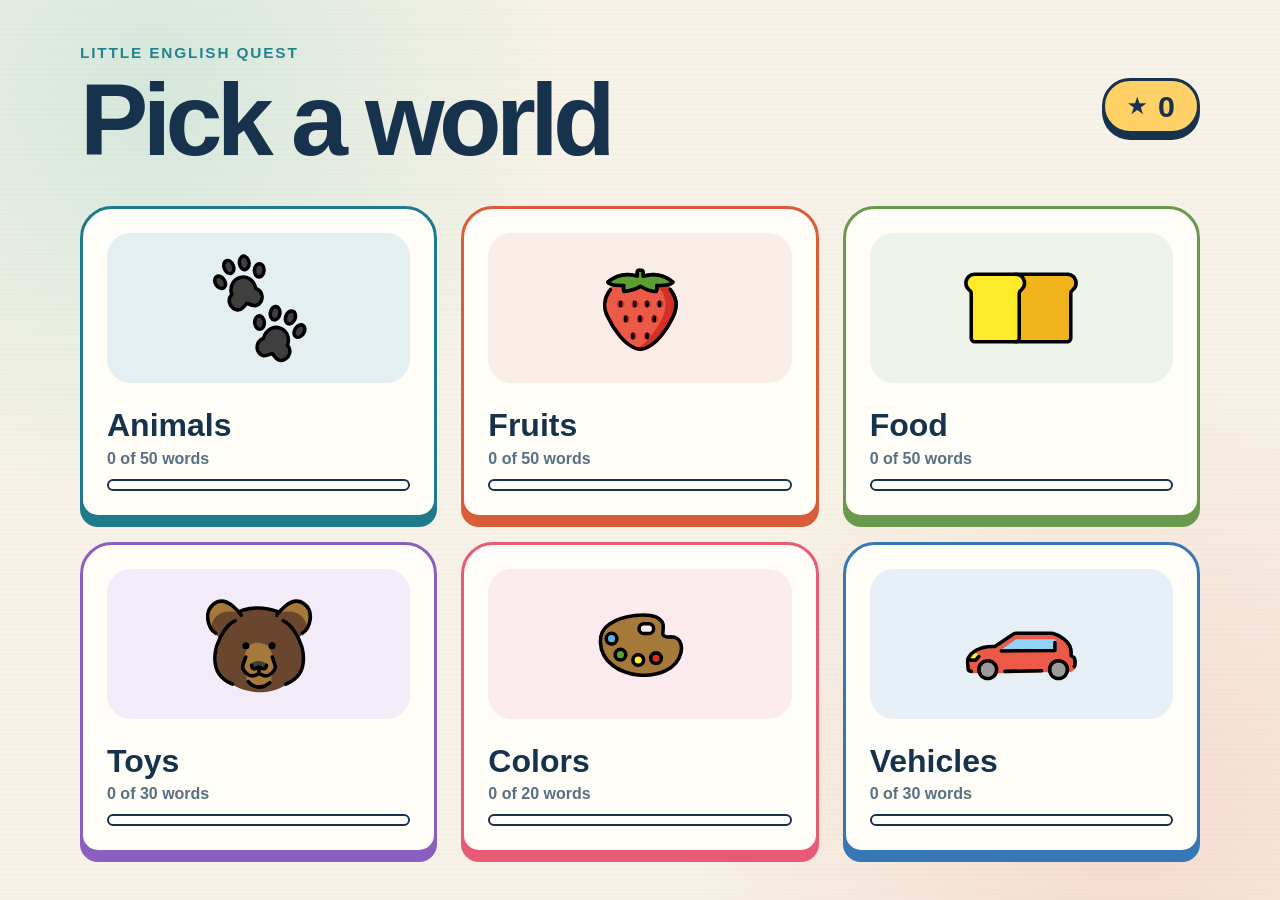
Test case: App flow › explains when sound playback is unavailable
Click the button "Animals 0 of 50 words".
click(259, 362)  # box x1=80 y1=206 x2=437 y2=518
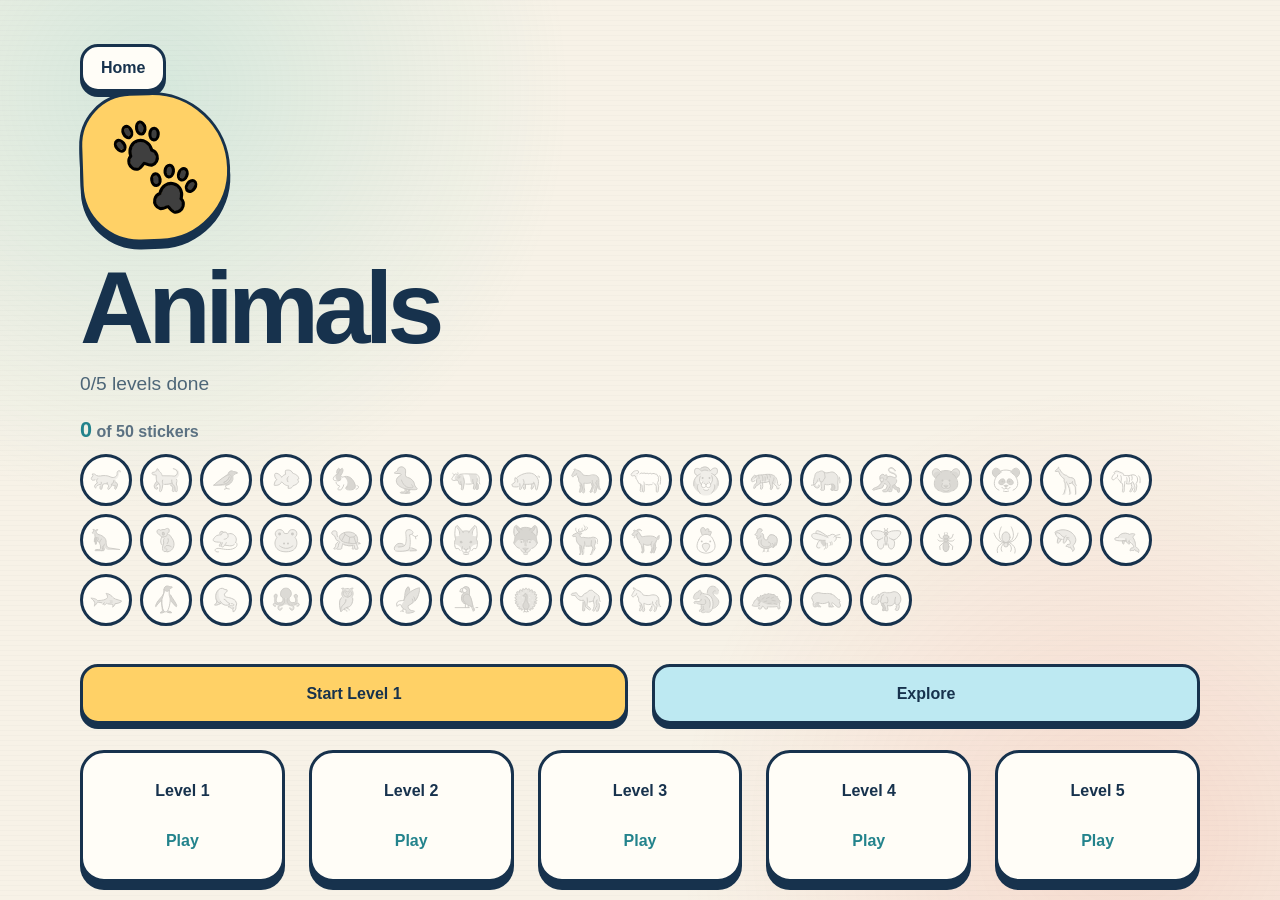
Click the button "Start Level 1".
click(354, 694)  # box x1=80 y1=664 x2=628 y2=724
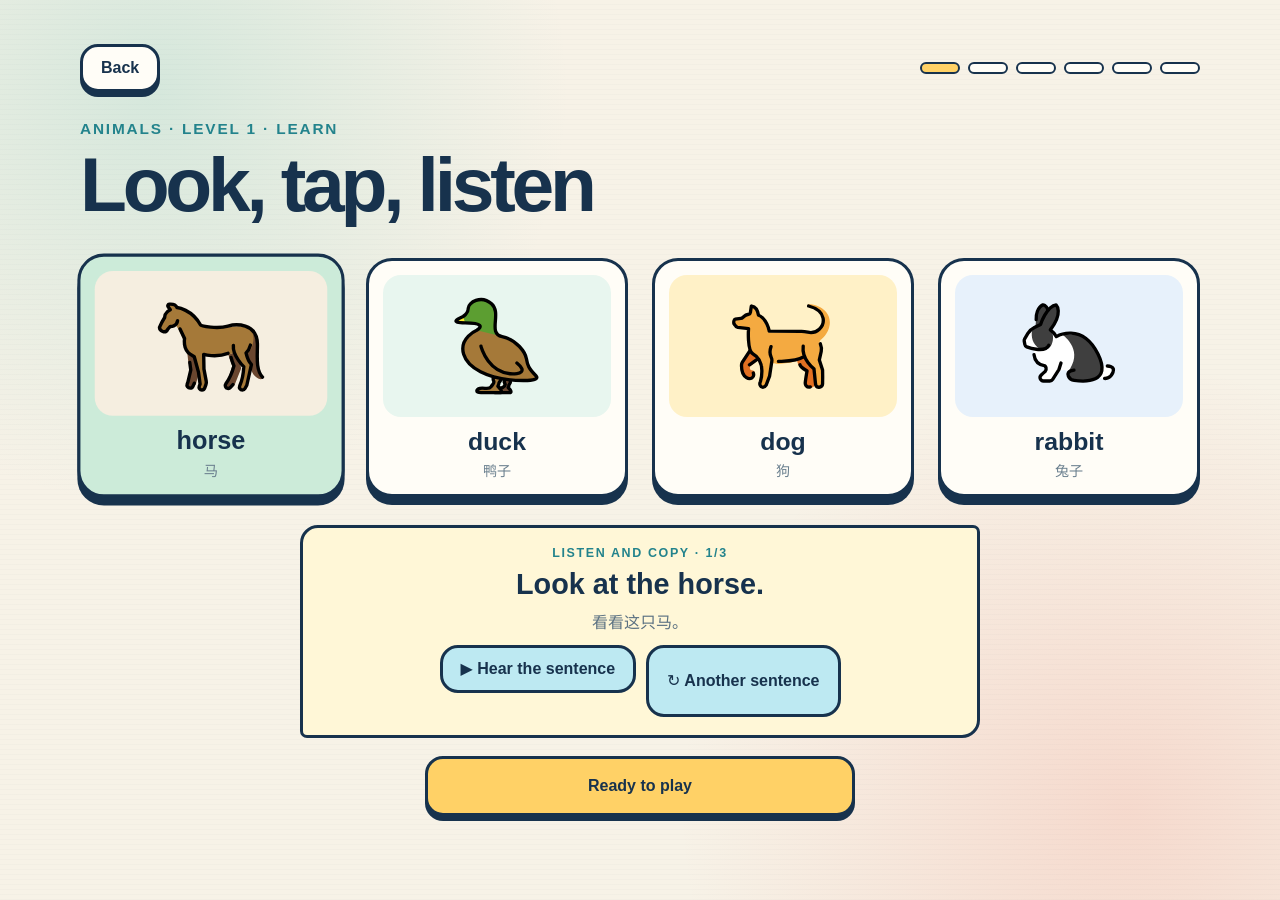
Click the button with aria-label "Say ".
click(211, 376)  # box x1=77 y1=254 x2=345 y2=498
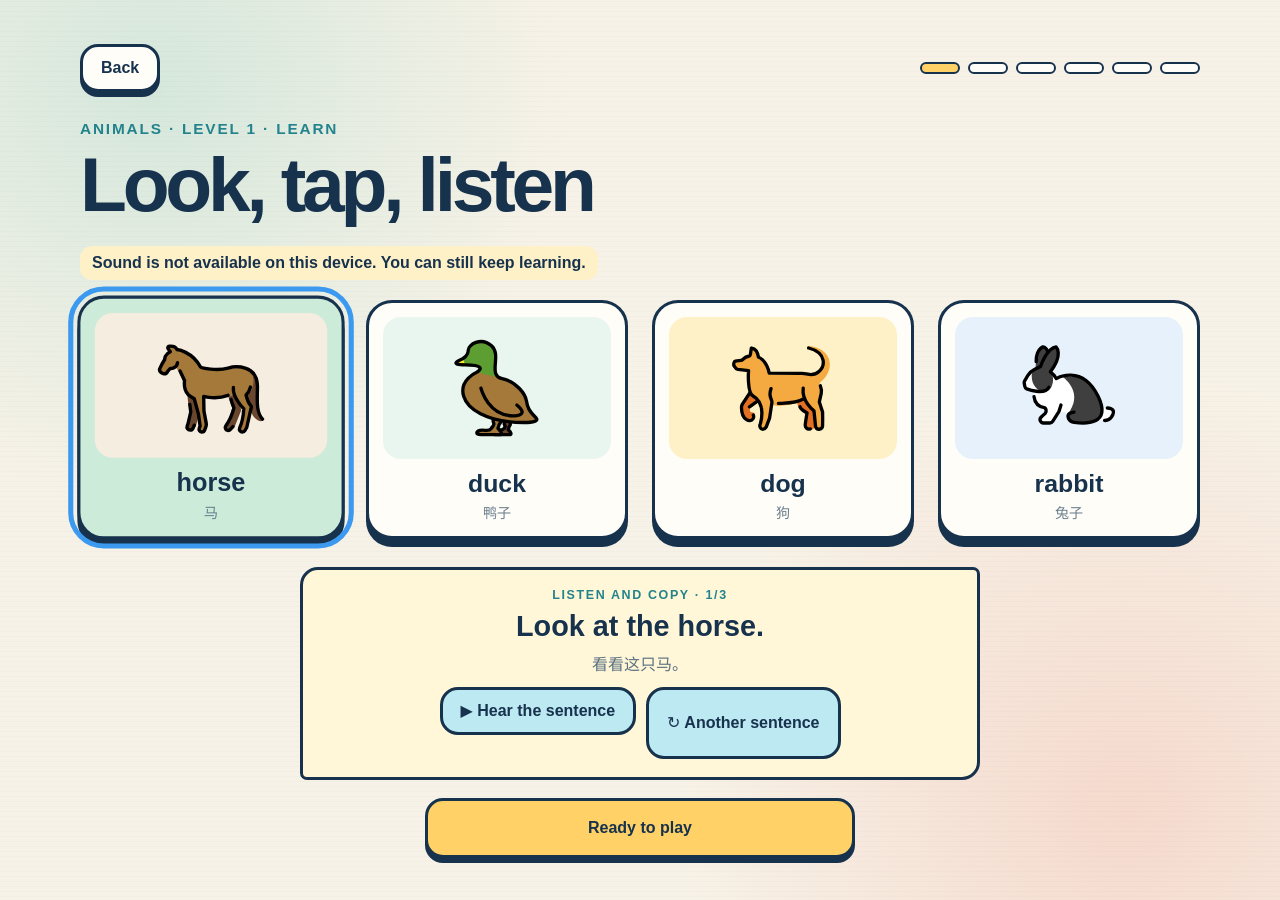
Now the text "Sound is not available on this device. You can still keep learning." is shown, box x1=80 y1=246 x2=598 y2=280
